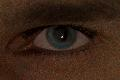eye: (46, 25, 77, 48)
